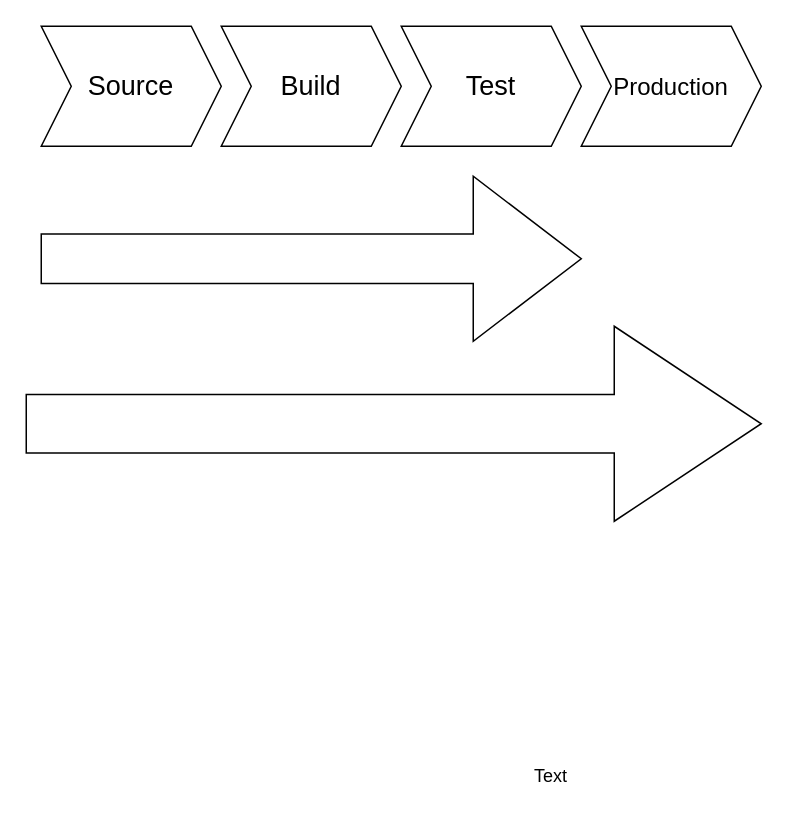
Some shapes in this 788 by 818 pixel diagram are drawn without their labels. The shapes that lost their labels are listed below. From the top down, each one's centre as x and y in pixels, then its label:
At (x=310, y=258): "Continuous Integration".
At (x=393, y=423): "Continuous Delivery".
